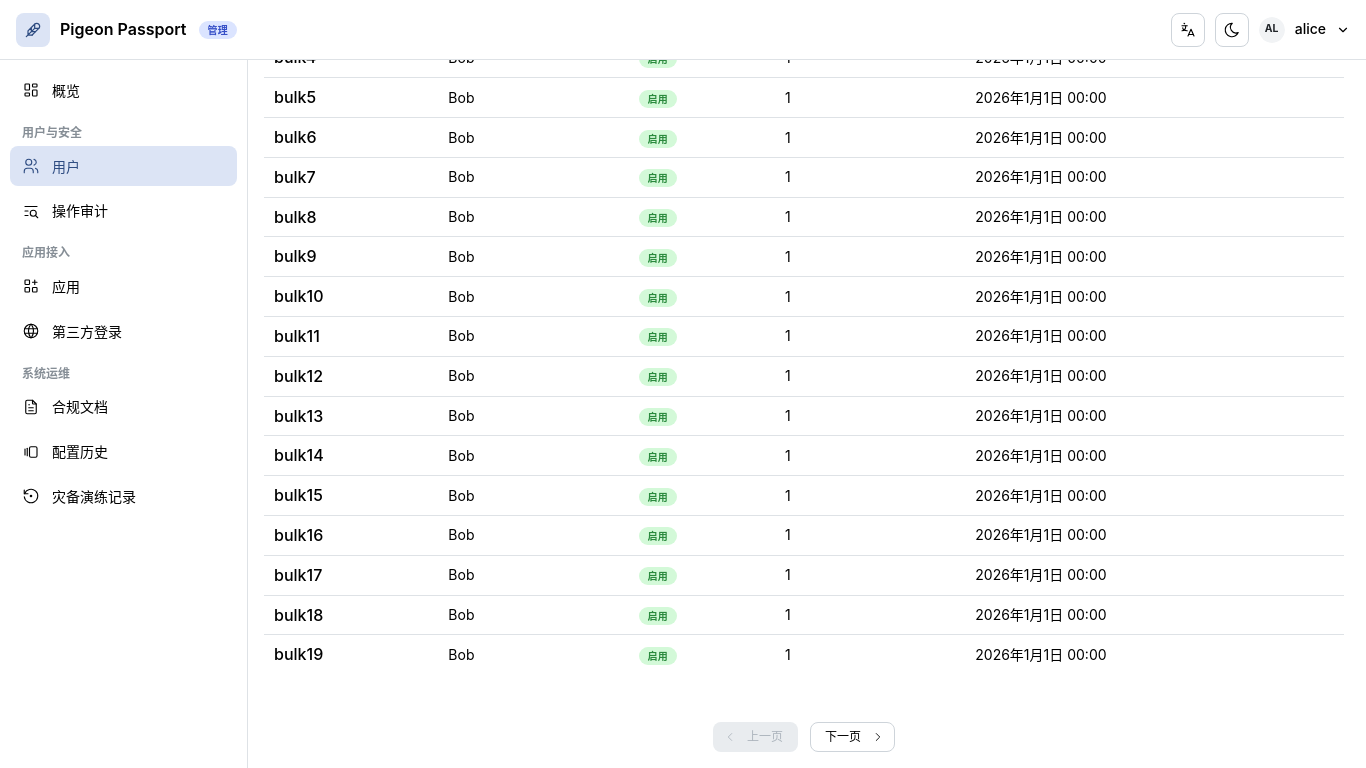
Test: admin users page › lists users with cursor pagination
(page scrolled)
Expected: the link "bulk19" is shown, [274,644,323,664]
Expected: the link "bulk20" is not shown
Click the button "下一页".
click(853, 737)  # box [810,722,895,752]
(page scrolled)
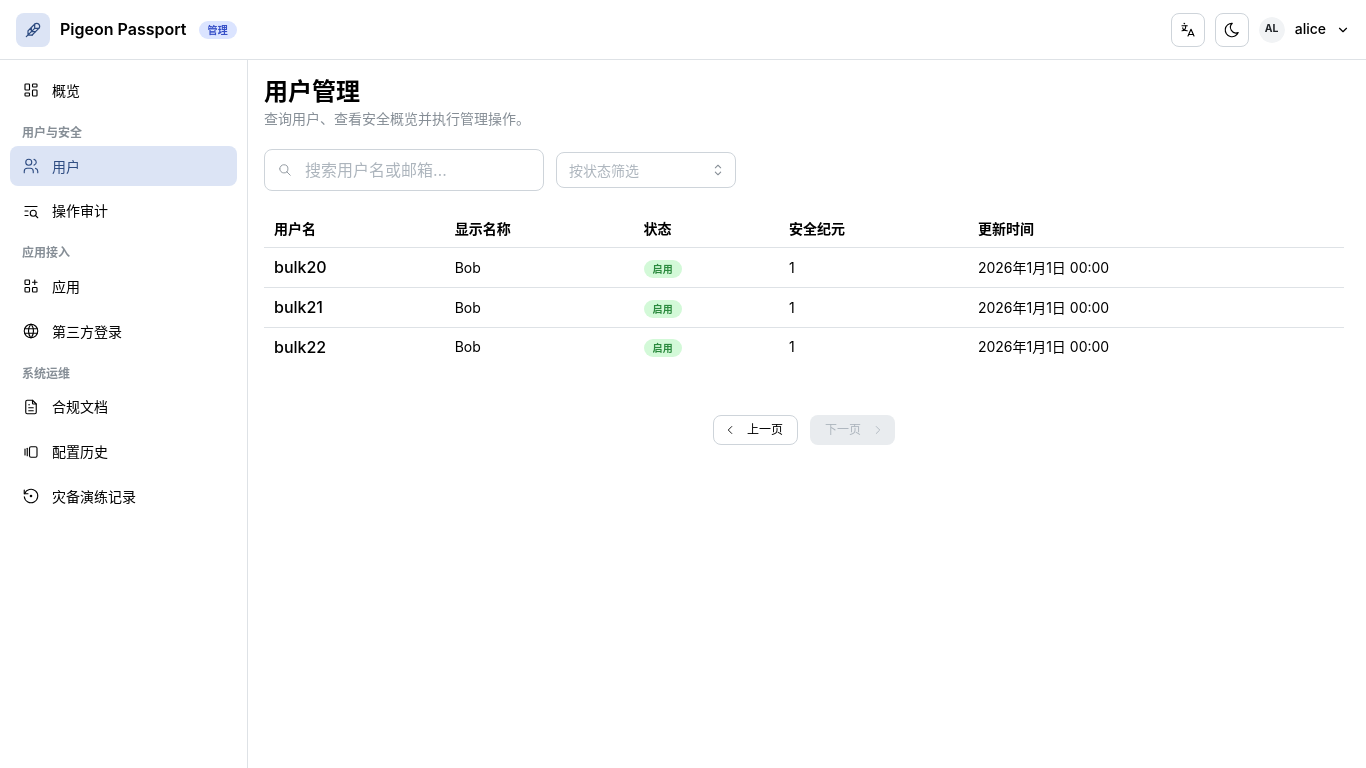
Now the link "bulk22" is shown, box [274,337,326,357]
Now the link "bulk1" is gone
Click the button "上一页".
click(755, 430)  # box [713,415,798,445]
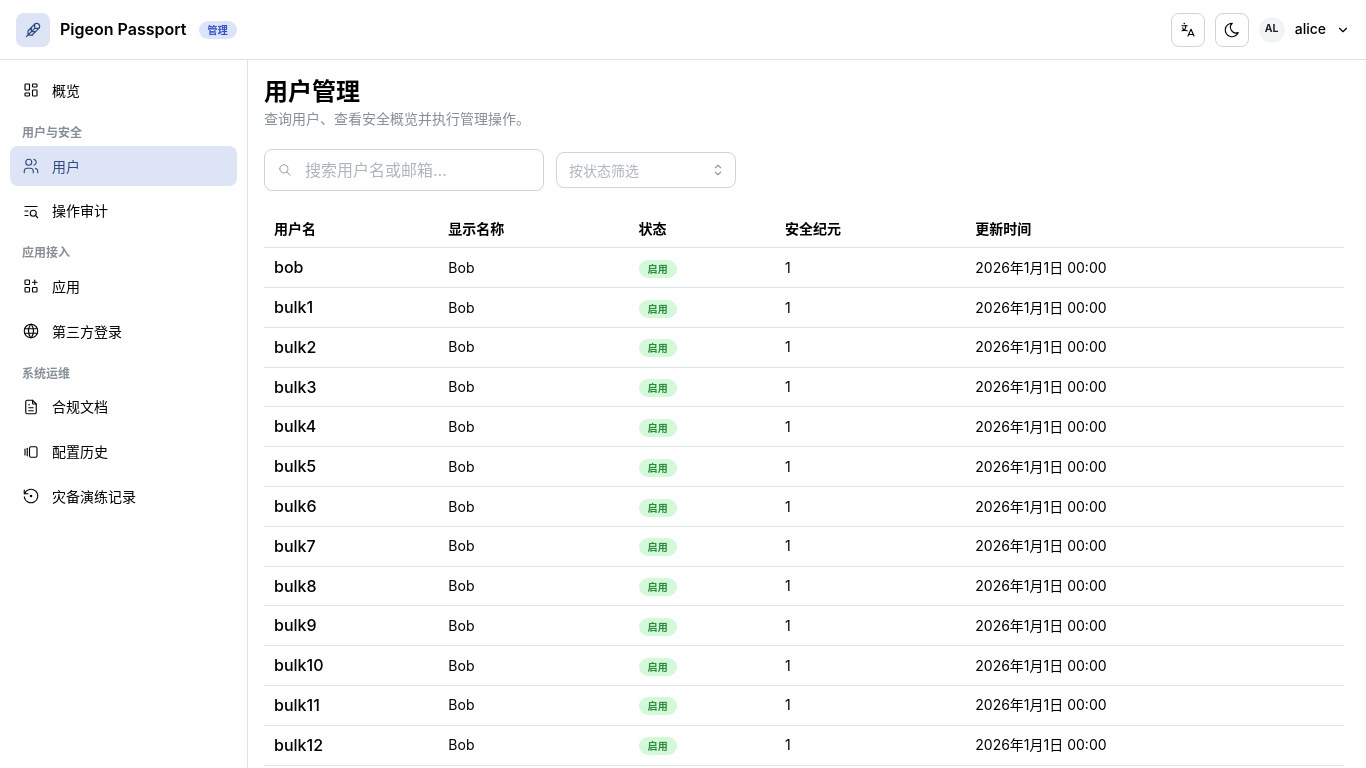
Now the link "bulk1" is shown, box [274,297,313,317]
